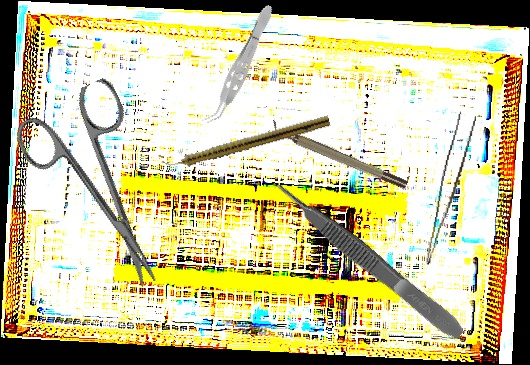Fixation Ring: (265, 118, 410, 198)
Handpiece: (161, 111, 331, 174)
Iris Scissors: (8, 75, 196, 309)
Tissue Forceps: (270, 173, 469, 346), (201, 1, 280, 130), (425, 110, 477, 269)
